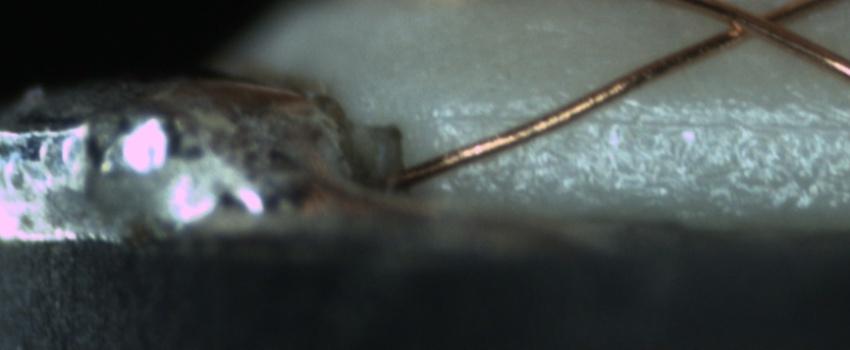CL: (711, 1, 800, 46)
DL: (429, 87, 850, 150)
